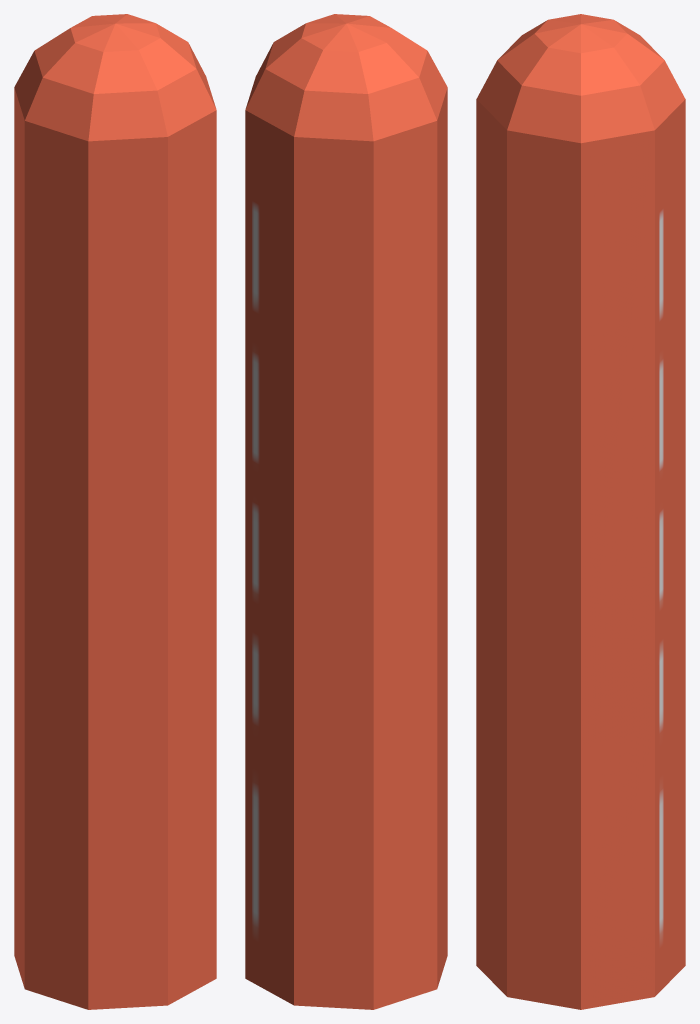
File: wala_building06.fbx
The picture shows the model from 3 angles, left to right: view 1: azimuth 30°, elevation 25°; view 2: azimuth 150°, elevation 25°; view 3: azimuth 270°, elevation 25°; orthographic projection.
Visible parts, largest first — view 1: wala_building06; view 2: wala_building06; view 3: wala_building06.
Part boxes in pixels (x1=…): wala_building06: x1=14, y1=14, x2=216, y2=1009; wala_building06: x1=245, y1=14, x2=447, y2=1009; wala_building06: x1=476, y1=14, x2=685, y2=1009.
Bounding box in the file's own units: 0.9076 × 4.51 × 0.9076.
